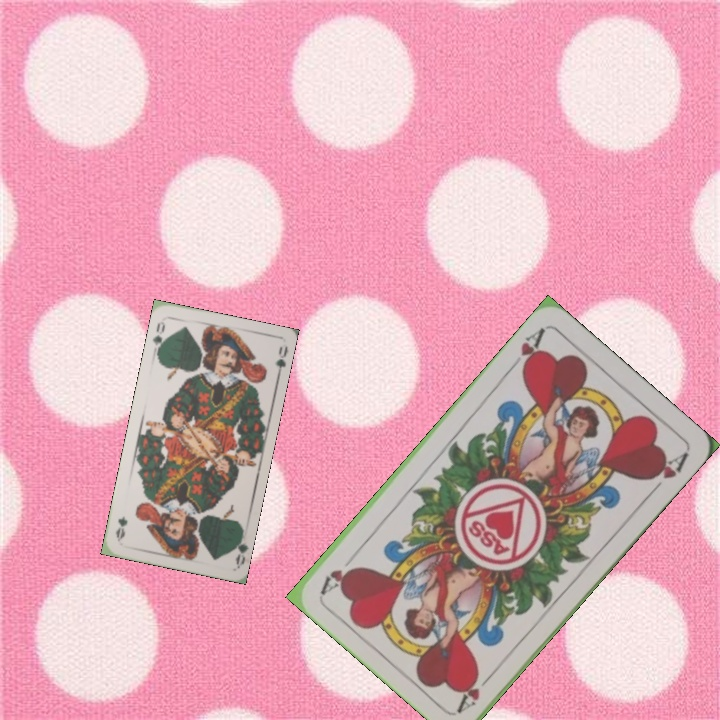GO: (228, 525, 249, 567), (148, 317, 169, 356)
HA: (453, 666, 499, 714), (505, 324, 548, 375)
